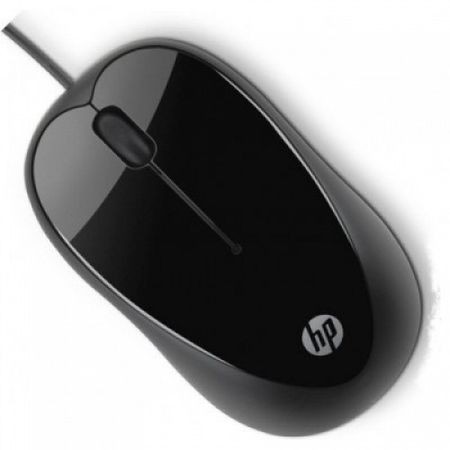hp-mouse-X1000: (1, 6, 424, 435)
